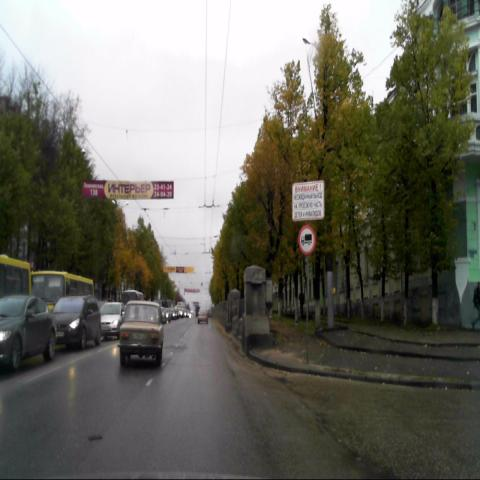3_4_1: (298, 224, 316, 255)
